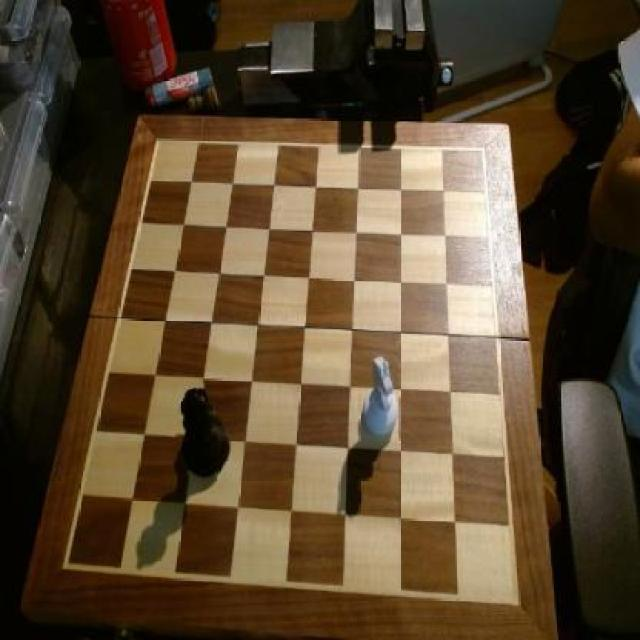black-pawn: (176, 383, 232, 479)
white-king: (362, 352, 402, 440)
